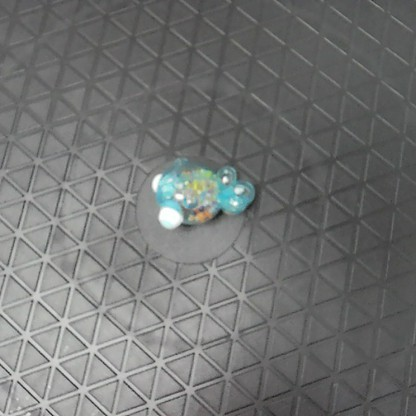bluefish: (146, 161, 257, 234)
